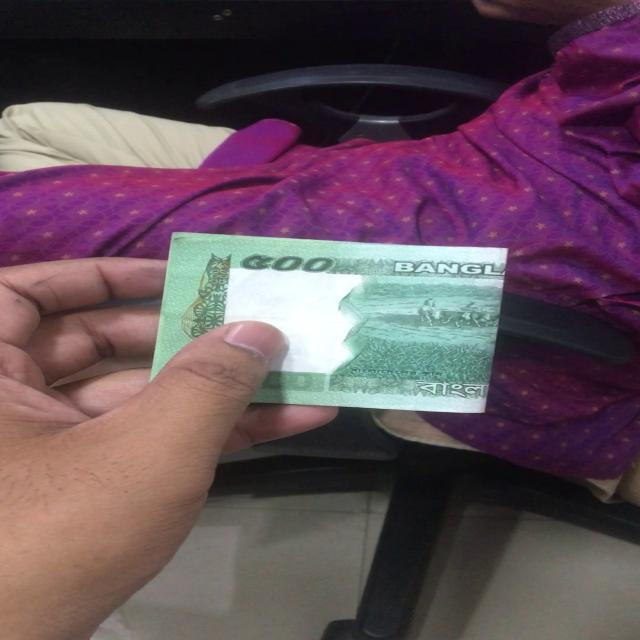Taka: (160, 230, 489, 413)
